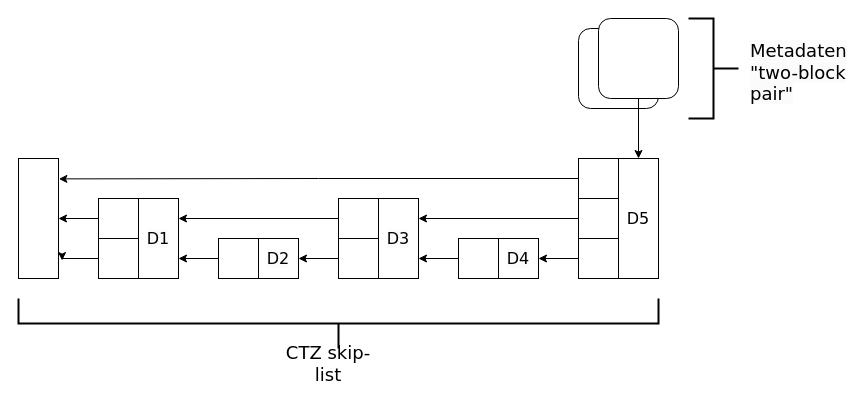
Image size: 864x402. Some labels were removed from this diagram. The centre of each missing label's shape, as x and y in pixels:
"D0" goes at (38,218).
"SPEC.MD Dateiname [...] CRC32" goes at (638,58).
